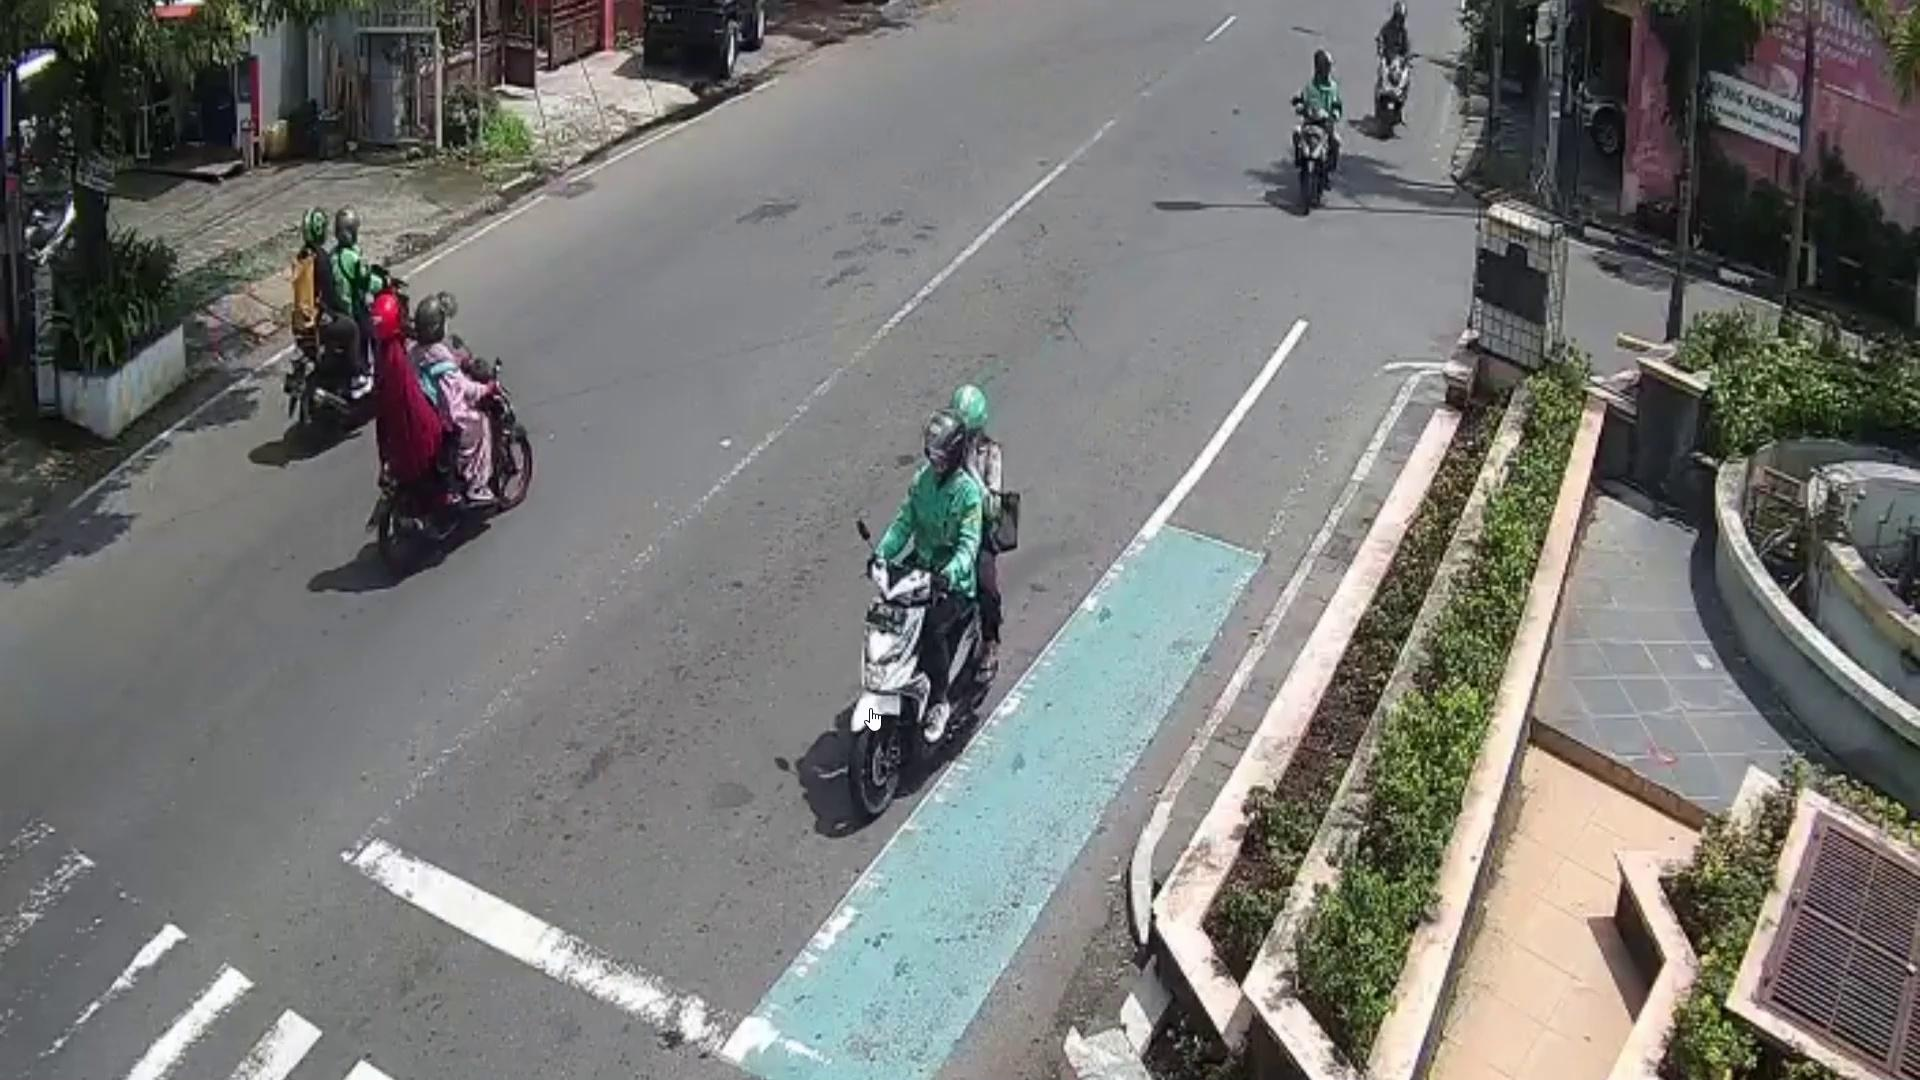motorbike: (848, 551, 986, 820), (369, 356, 531, 567), (1292, 103, 1337, 216)
